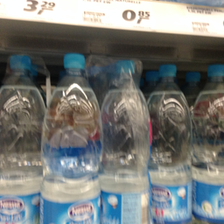water: (39, 53, 103, 224), (99, 60, 152, 223), (1, 55, 48, 224), (149, 64, 194, 224), (191, 64, 224, 222)
